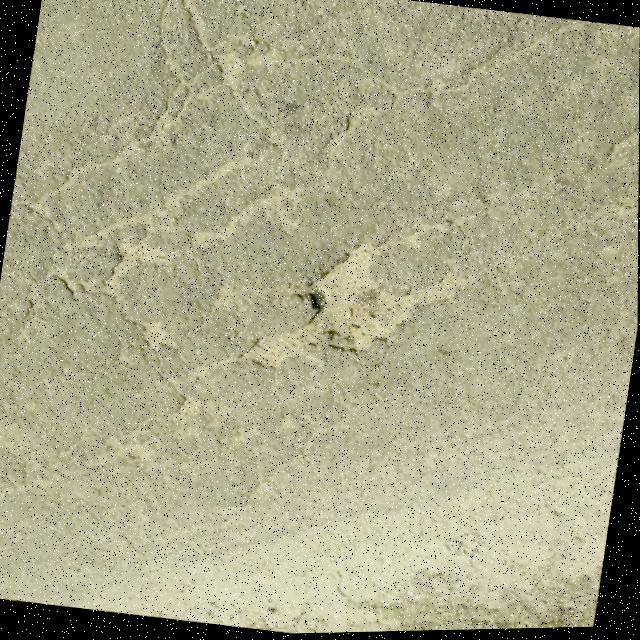pothole: (222, 210, 483, 423)
